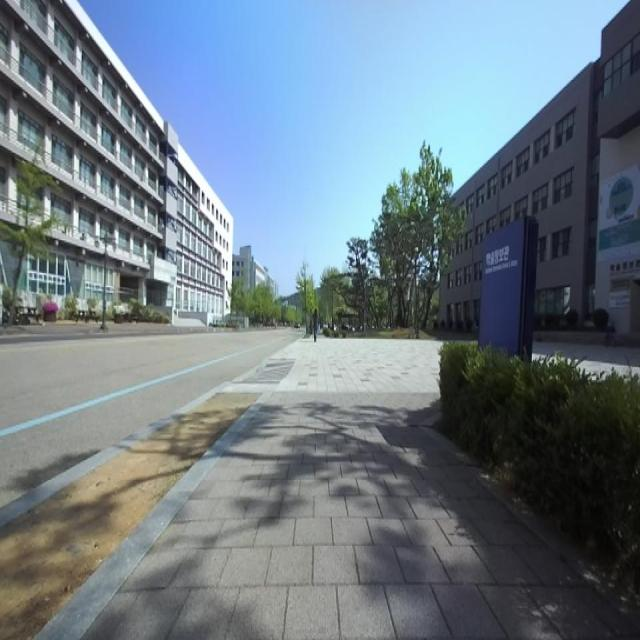sidewalk: (80, 341, 640, 640), (17, 324, 102, 333), (106, 324, 173, 331)
